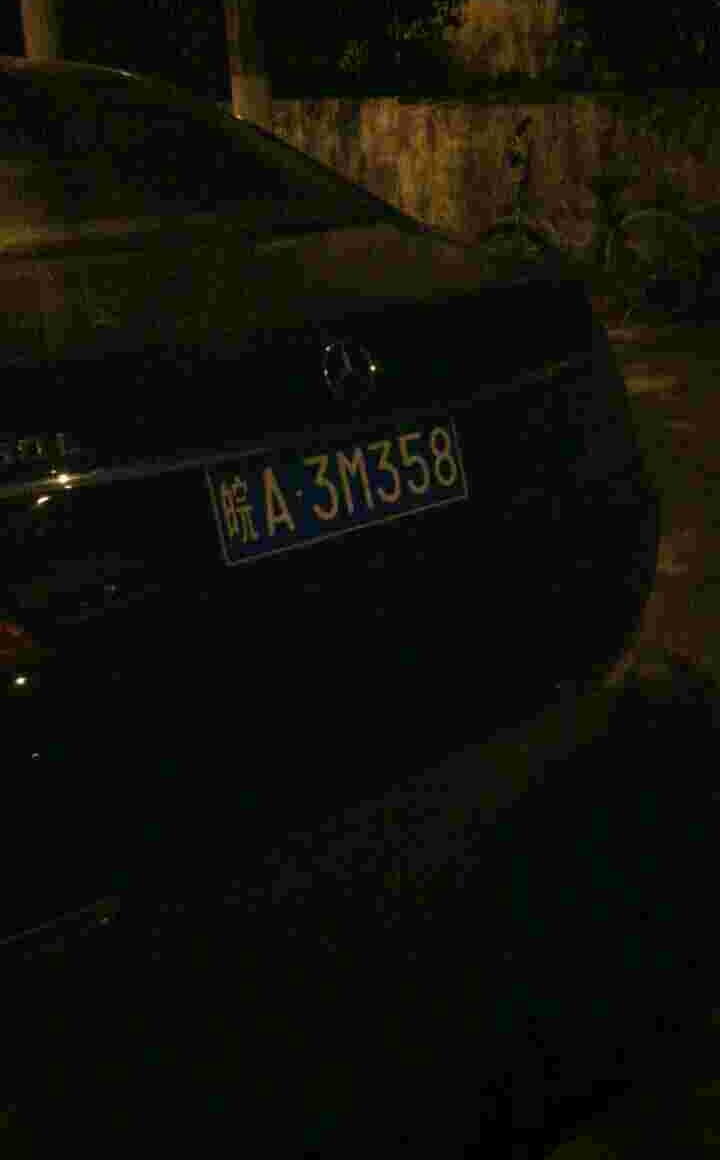license_plate: (211, 415, 468, 551)
